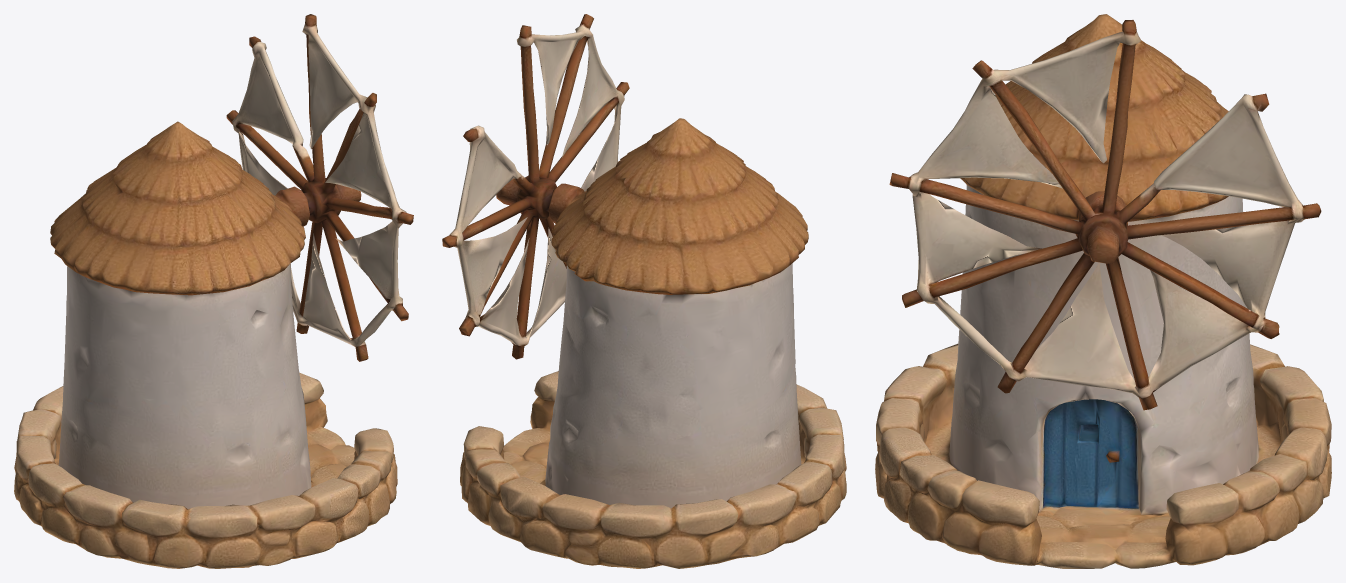
Rendered from windmill.glb.
3 views of the same model, side by side, from view 1: azimuth 30°, elevation 25°; view 2: azimuth 150°, elevation 25°; view 3: azimuth 270°, elevation 25° (orthographic). The views are drawn at different scales.
Visible parts, largest first — view 1: tripo_node_a7ba78ae-c607-4409-872c-1742d7d3f173; view 2: tripo_node_a7ba78ae-c607-4409-872c-1742d7d3f173; view 3: tripo_node_a7ba78ae-c607-4409-872c-1742d7d3f173.
Part boxes in pixels (bbox=[...]): tripo_node_a7ba78ae-c607-4409-872c-1742d7d3f173: bbox=[14, 14, 413, 568]; tripo_node_a7ba78ae-c607-4409-872c-1742d7d3f173: bbox=[442, 14, 846, 568]; tripo_node_a7ba78ae-c607-4409-872c-1742d7d3f173: bbox=[875, 14, 1331, 568].
Size of the model in its own units: 0.7679 by 1 by 0.784.
1 material, 1 textured.
